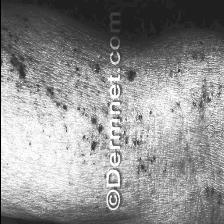Non-Cancerous Skin Condition: (58, 51, 104, 155), (128, 58, 158, 174), (0, 6, 34, 78), (185, 62, 222, 118)
